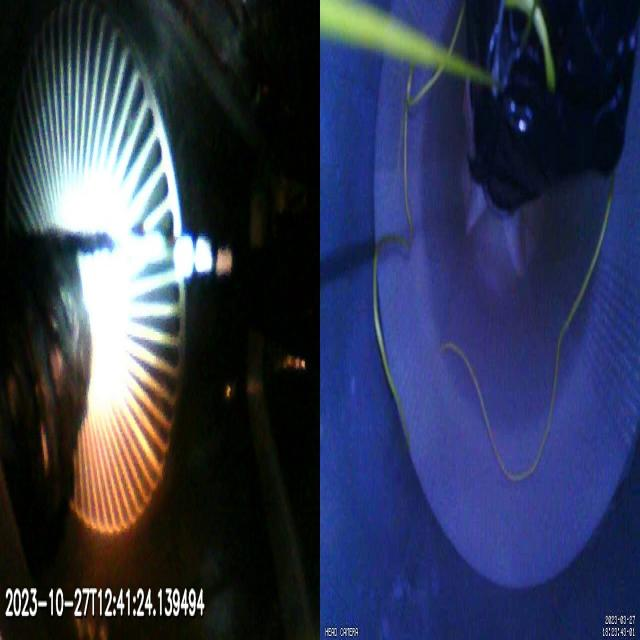white-dots: (172, 235, 232, 280)
